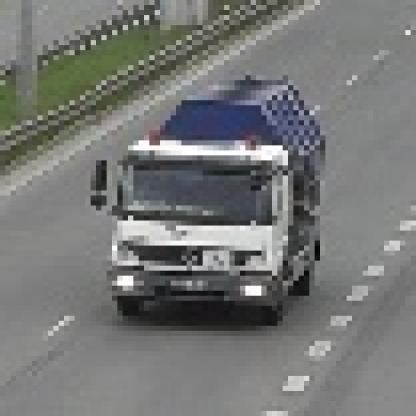truck: (86, 76, 316, 317)
